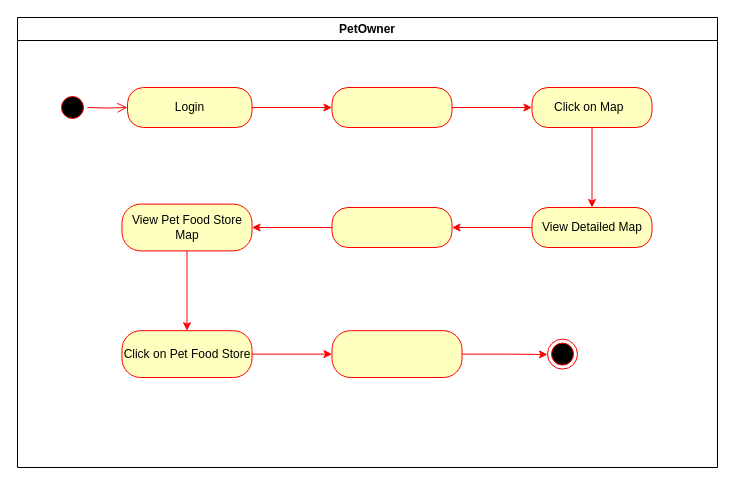
This 735x485 diagram has some shape labels left out. The centre of each missing label's shape, as x and y in pixels:
"Filter Map" belongs at [391,227].
"View Dashboard" belongs at [391,107].
"View Store Information" belongs at [396,354].
